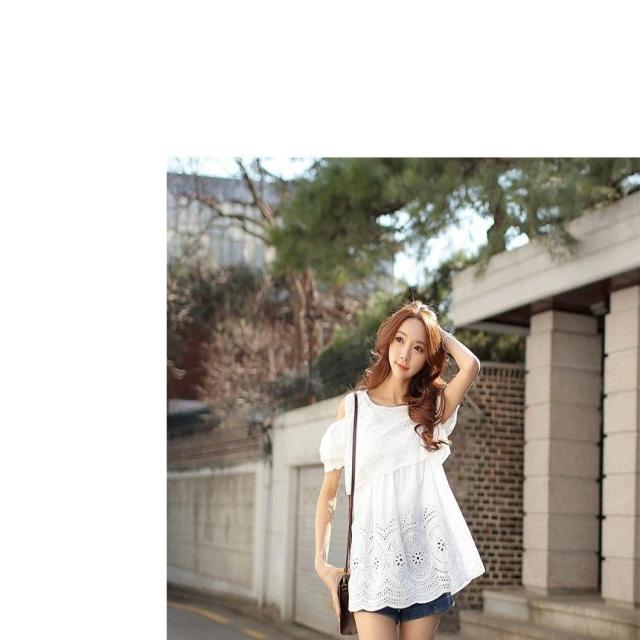short sleeve top: (324, 382, 484, 612)
shorts: (350, 532, 455, 622)
